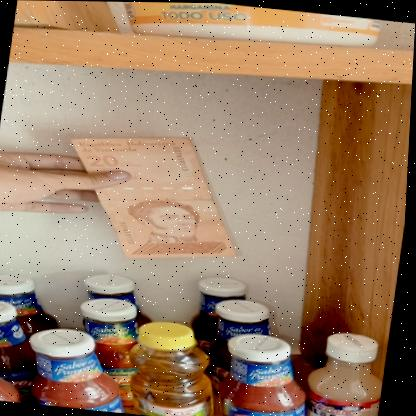twenty-front-vef: (57, 124, 252, 269)
